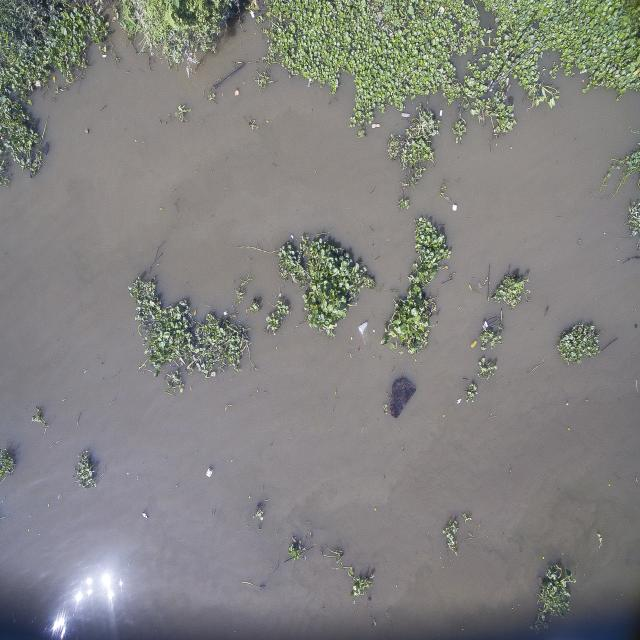debris: (386, 376, 416, 418), (482, 318, 506, 335), (232, 85, 245, 100), (505, 76, 512, 92), (205, 467, 214, 479), (370, 122, 383, 130), (140, 510, 150, 520), (543, 304, 550, 317), (437, 7, 446, 16), (450, 202, 458, 212), (400, 112, 411, 118), (455, 397, 463, 405), (35, 79, 42, 88), (438, 109, 444, 118), (84, 128, 90, 134), (101, 54, 108, 58)
plastic: (27, 149, 38, 179), (358, 322, 371, 344), (536, 87, 545, 98), (42, 142, 49, 156), (248, 8, 256, 20), (307, 76, 312, 90), (186, 65, 191, 79), (580, 68, 588, 76)
